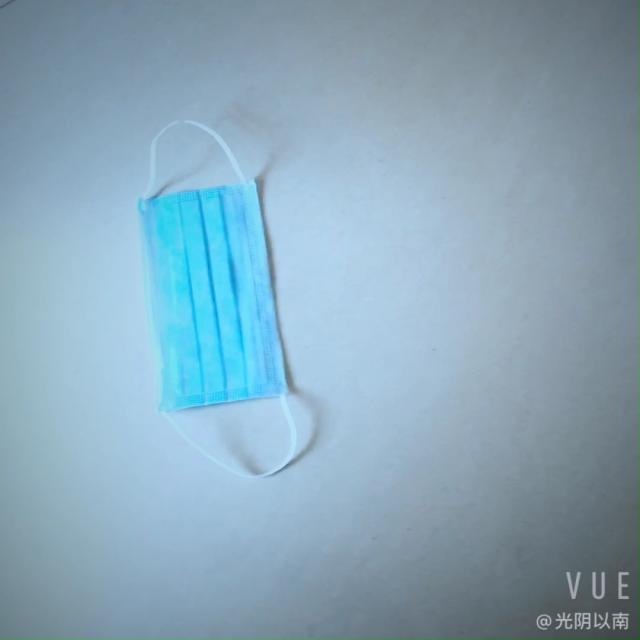non-organic waste: (135, 167, 315, 414)
